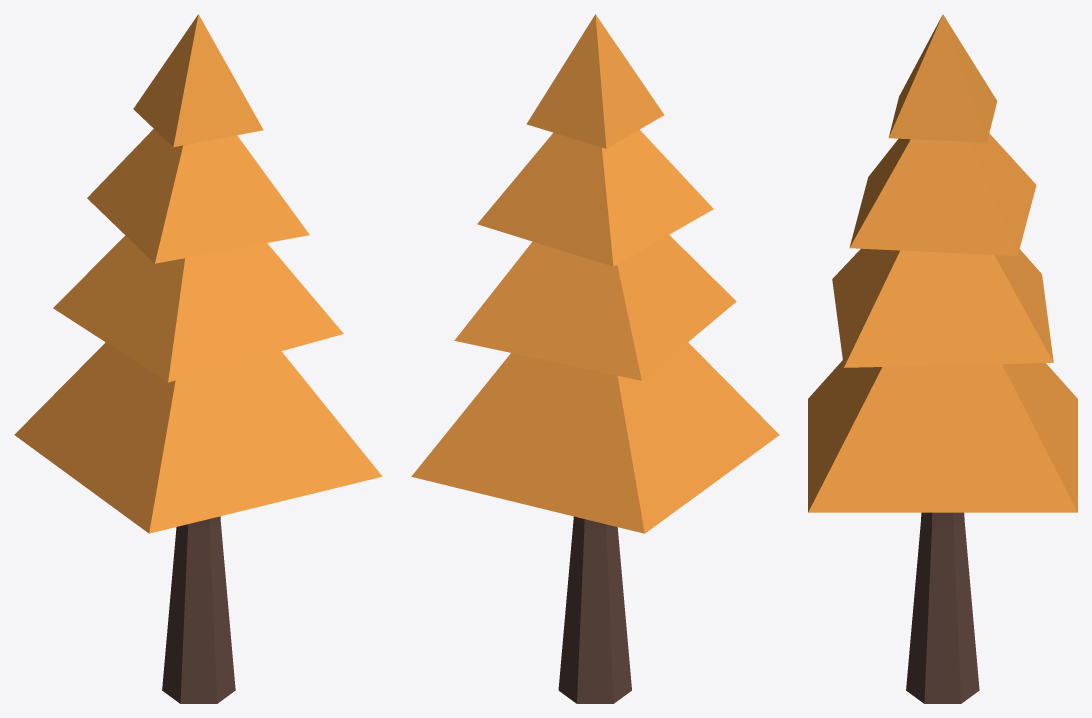
File: AutumnTree_02.fbx
3 renders of one model, left to right at view 1: azimuth 30°, elevation 25°; view 2: azimuth 150°, elevation 25°; view 3: azimuth 270°, elevation 25°, orthographic.
Parts seen in each view (by area): view 1: AutumnTree_02; view 2: AutumnTree_02; view 3: AutumnTree_02.
Part boxes in pixels (left/top/right/bottom): AutumnTree_02: left=14, top=14, right=382, bottom=703; AutumnTree_02: left=411, top=14, right=779, bottom=703; AutumnTree_02: left=808, top=14, right=1077, bottom=703.
Bounding box in the file's own units: 287 × 795 × 287.
